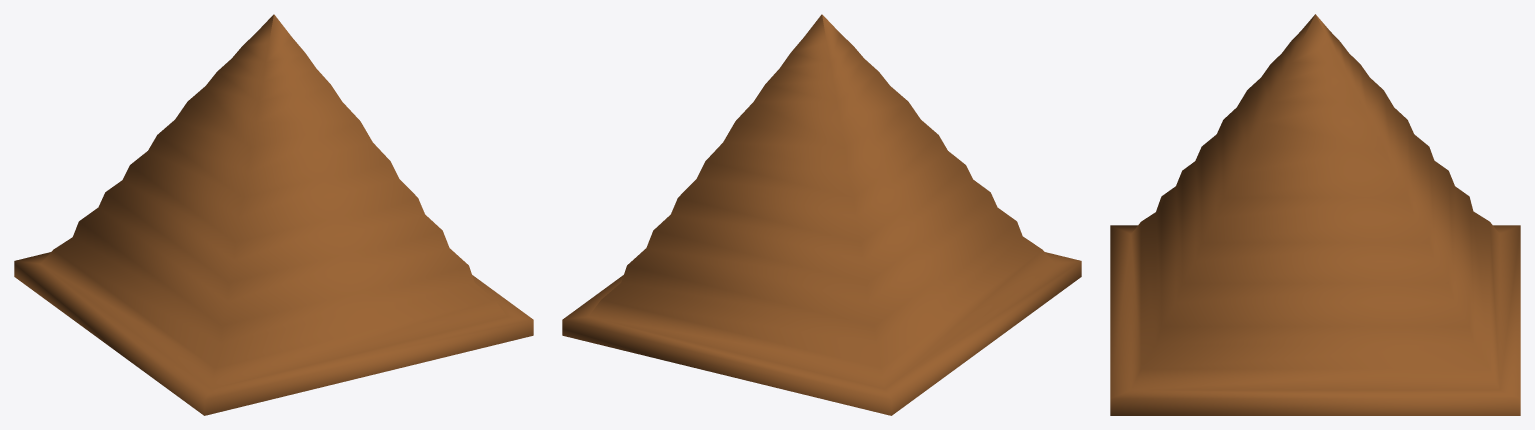
The model's file is small_pyramid.fbx.
3 renders of one model, left to right at view 1: azimuth 30°, elevation 25°; view 2: azimuth 150°, elevation 25°; view 3: azimuth 270°, elevation 25°, orthographic. The views are drawn at different scales.
Visible parts, largest first — view 1: small_pyramid; view 2: small_pyramid; view 3: small_pyramid.
Part boxes in pixels (box(x1,y1,x2,y2)): small_pyramid: box(14, 14, 533, 415); small_pyramid: box(562, 14, 1081, 415); small_pyramid: box(1110, 14, 1520, 415).
Bounding box in the file's own units: 15.45 × 13.11 × 15.45.
